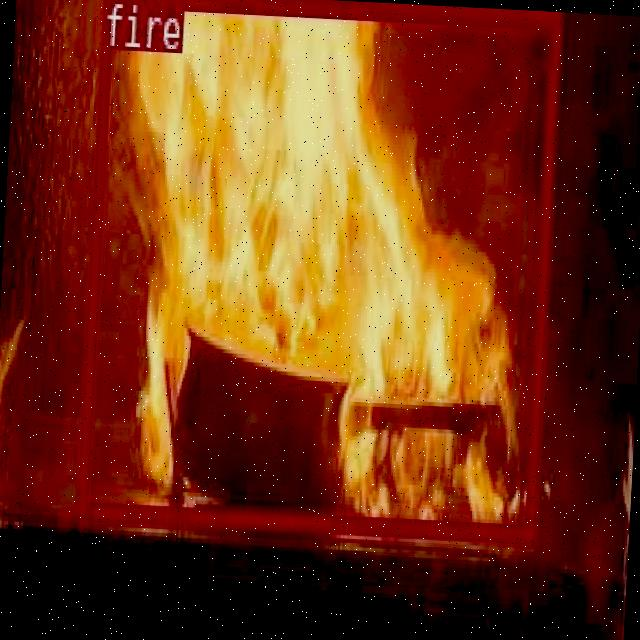fire: (76, 0, 558, 541)
